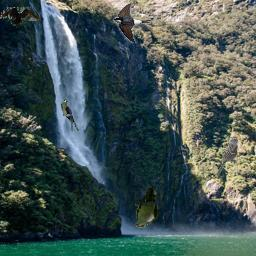Crow: (0, 7, 40, 28)
Cuckoo: (135, 188, 158, 228), (61, 99, 80, 131)
Sparrow: (216, 136, 238, 176)
Swallow: (113, 3, 151, 43)
